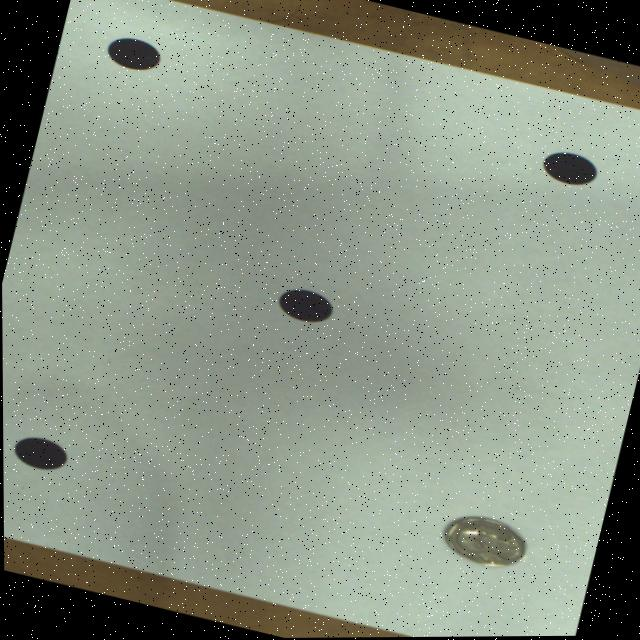head5bath: (443, 516, 524, 566)
space: (278, 288, 332, 322), (543, 152, 597, 185), (108, 37, 161, 69), (14, 436, 66, 468)
